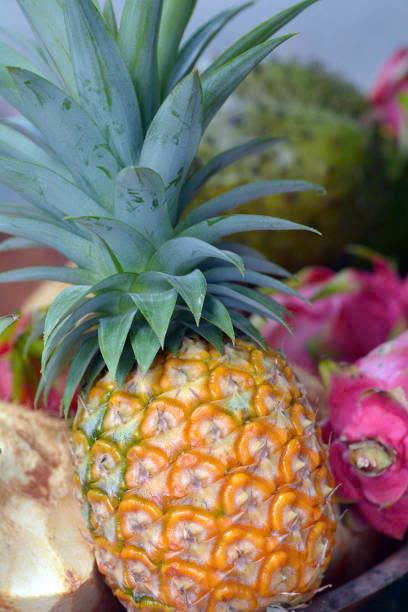pineapple: (29, 225, 312, 612)
